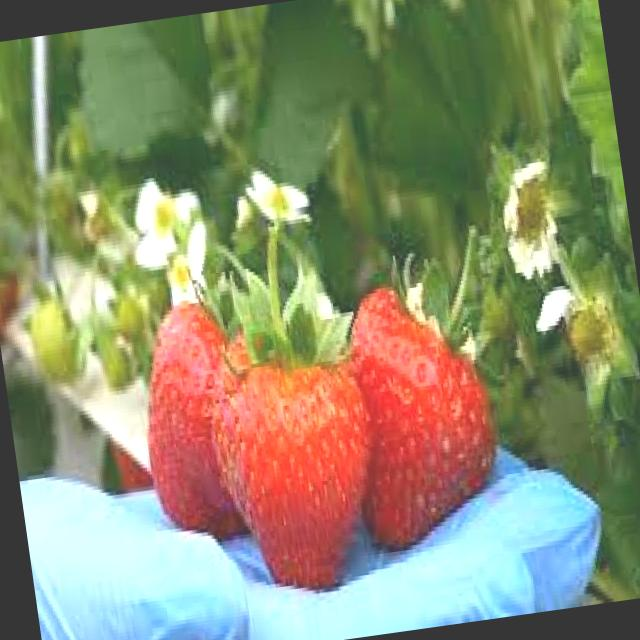Strawberry: (327, 225, 520, 552), (200, 330, 388, 600), (127, 286, 262, 546)
